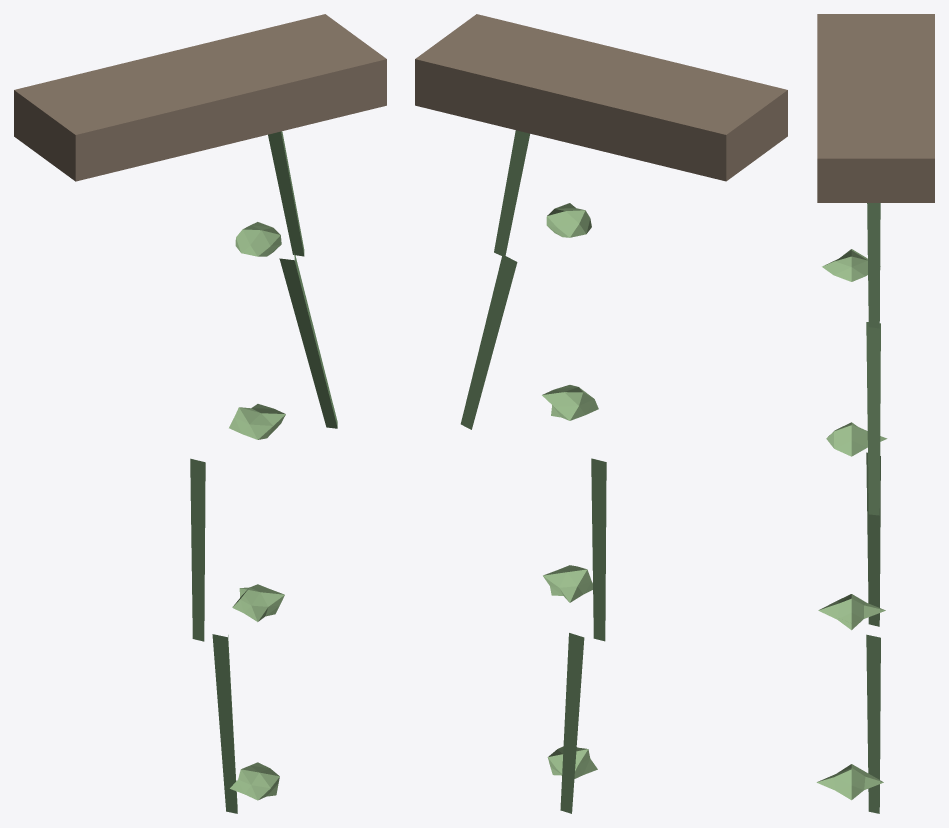
File: vine_v28.glb
The picture shows the model from 3 angles, left to right: view 1: azimuth 30°, elevation 25°; view 2: azimuth 150°, elevation 25°; view 3: azimuth 270°, elevation 25°; orthographic projection. The views are drawn at different scales.
Parts seen in each view (by area): view 1: lod0; view 2: lod0; view 3: lod0.
Part boxes in pixels (box(x1,y1,x2,y2)): lod0: box(14, 14, 386, 813); lod0: box(415, 14, 787, 813); lod0: box(816, 14, 934, 813).
Size of what is drawn, in the model's own units: 0.7 by 1.6 by 0.2425.
